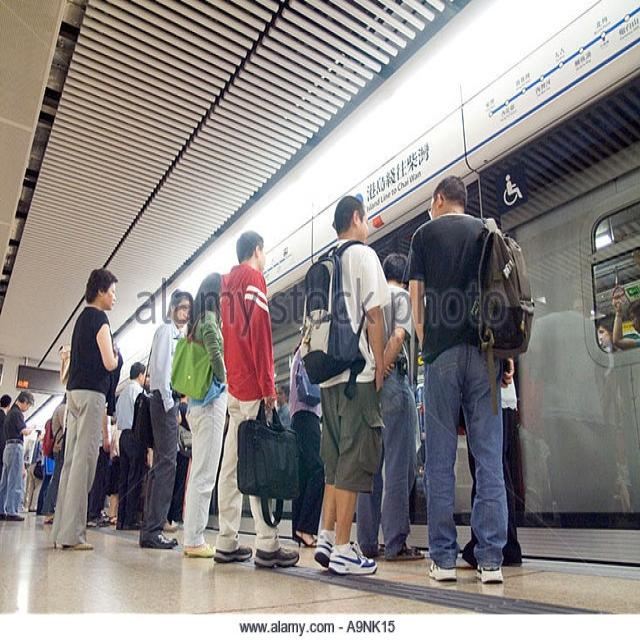body: (397, 169, 537, 590), (297, 191, 395, 578), (207, 228, 301, 571), (522, 278, 639, 520), (352, 246, 428, 562), (45, 261, 124, 554), (168, 270, 231, 559), (137, 288, 195, 550), (453, 374, 525, 571), (287, 339, 326, 549), (114, 360, 148, 530), (0, 389, 39, 524), (86, 401, 119, 530), (163, 392, 190, 534), (40, 390, 68, 525), (22, 417, 52, 516), (0, 393, 13, 481), (272, 380, 295, 428), (144, 374, 152, 394)
